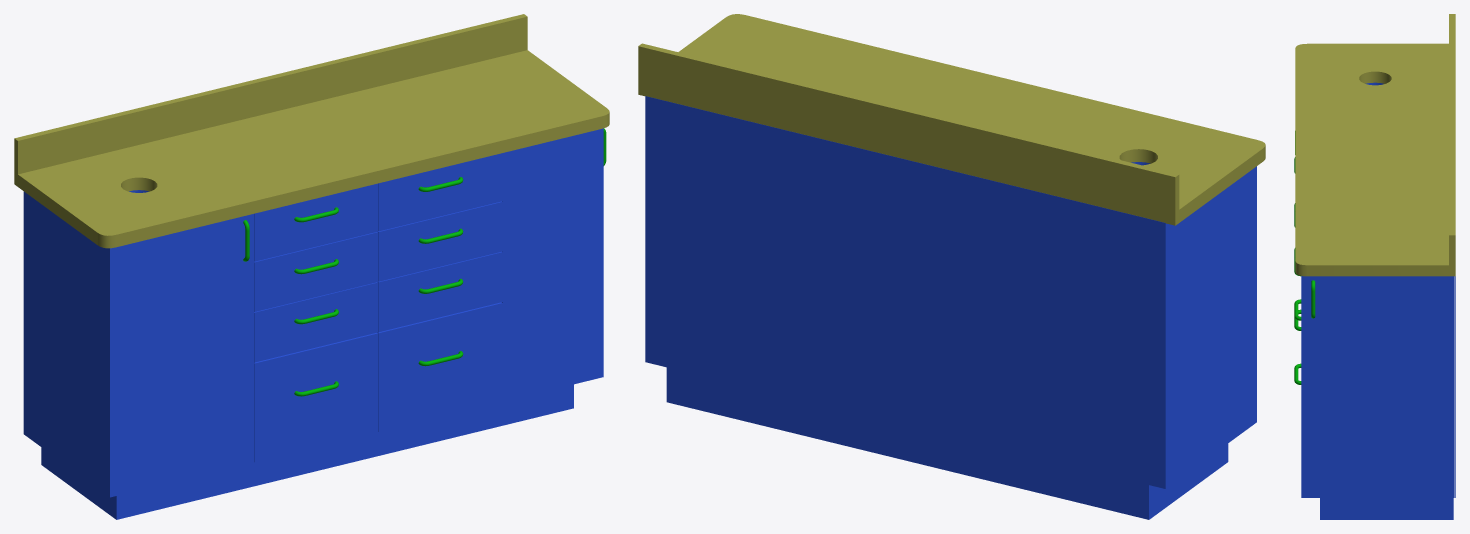
File: Cabinet 4 V2.FBX
3 renders of one model, left to right at view 1: azimuth 30°, elevation 25°; view 2: azimuth 150°, elevation 25°; view 3: azimuth 270°, elevation 25°, orthographic. The views are drawn at different scales.
Visible parts, largest first — view 1: Plane001, Box171, Object015; view 2: Plane001, Box171; view 3: Box171, Plane001, Object015.
Boxes of the visible parts, left/top/right/bottom form: Plane001: left=23, top=128, right=603, bottom=519; Box171: left=14, top=14, right=609, bottom=248; Object015: left=243, top=128, right=606, bottom=396; Plane001: left=645, top=96, right=1256, bottom=519; Box171: left=638, top=14, right=1265, bottom=225; Box171: left=1295, top=14, right=1455, bottom=276; Plane001: left=1301, top=82, right=1455, bottom=519; Object015: left=1294, top=131, right=1315, bottom=384.
Bounding box in the file's own units: 10.66 × 6.61 × 3.27.
